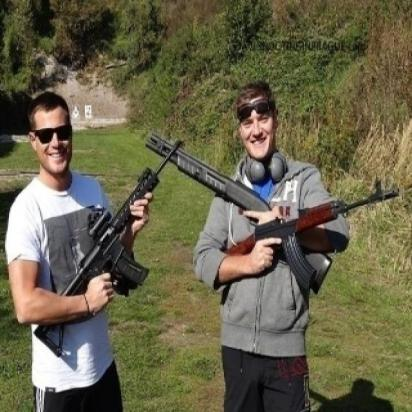Gun: (28, 134, 189, 358), (211, 178, 401, 302), (136, 126, 286, 224)
